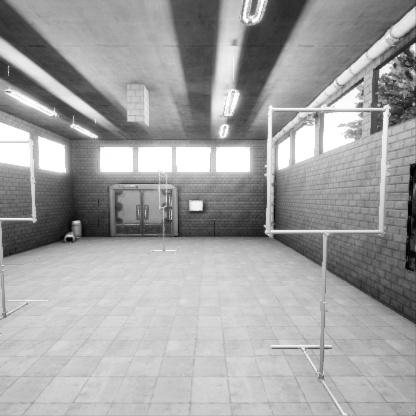gate: (271, 186, 403, 315), (158, 208, 166, 247)
